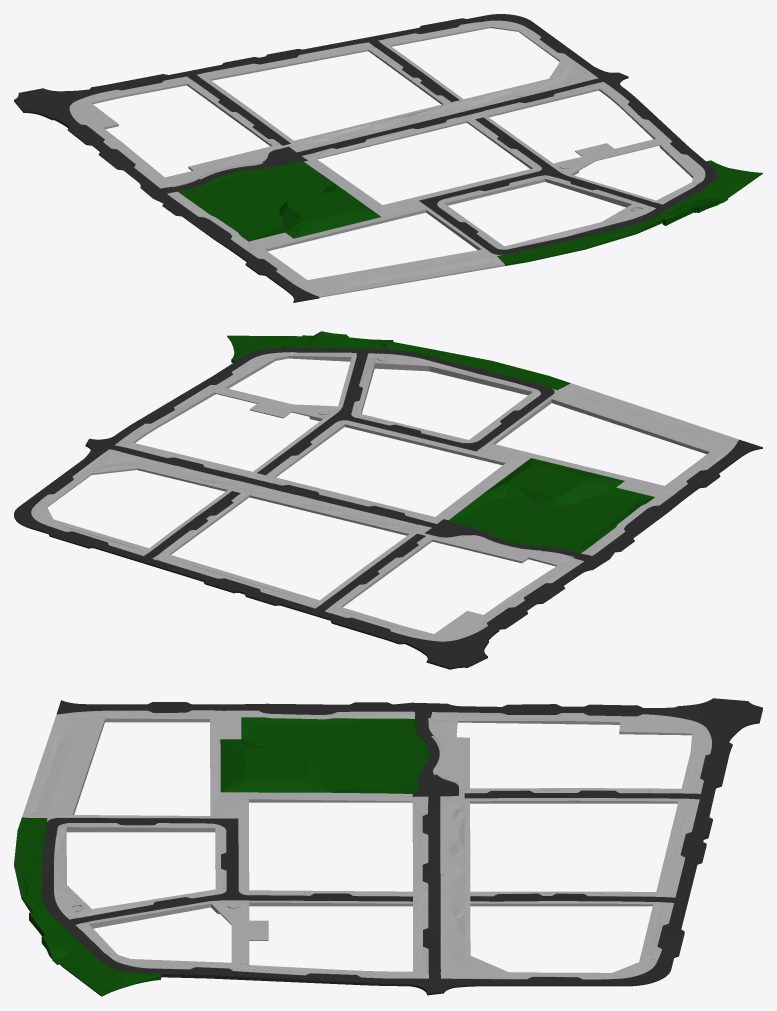
File: Landskap_klar.fbx
The picture shows the model from 3 angles, top to bottom: view 1: azimuth 30°, elevation 25°; view 2: azimuth 150°, elevation 25°; view 3: azimuth 270°, elevation 25°; orthographic projection. The views are drawn at different scales.
Parts seen in each view (by area): view 1: Pasrken, Kvarter 6, Kvarter 1, Kvarter 2, "Park vid kvarter 8", Kvarter 3, Väg.012, Kvarter 4, Kvarter 7, Väg.010, Kvarter 5, Väg.002 (+12 smaller); view 2: Pasrken, Kvarter 6, Kvarter 1, Kvarter 2, Väg.012, Kvarter 3, Kvarter 4, "Park vid kvarter 8", Kvarter 5, Kvarter 7, Väg.010, Väg.002 (+12 smaller); view 3: Pasrken, Kvarter 6, Kvarter 1, Kvarter 2, Kvarter 3, "Park vid kvarter 8", Väg.012, Kvarter 4, Kvarter 5, Väg.010, Kvarter 7, Väg.003 (+12 smaller).
Boxes of the visible parts, x1,y1,x2,y2 form: Pasrken: (178,161,380,241); Kvarter 6: (238,200,504,297); Kvarter 1: (69,76,288,188); Kvarter 2: (197,42,464,149); "Park vid kvarter 8": (497,160,762,265); Kvarter 3: (378,20,598,111); Väg.012: (14,71,190,192); Kvarter 4: (287,114,541,211); Kvarter 7: (437,175,655,249); Väg.010: (419,167,669,254); Kvarter 5: (471,82,671,171); Väg.002: (186,36,459,101); Pasrken: (449,458,654,553); Kvarter 6: (476,383,738,499); Kvarter 1: (325,533,583,641); Kvarter 2: (152,484,418,608); Väg.012: (314,561,599,669); Kvarter 3: (31,449,251,555); Kvarter 4: (257,420,523,534); "Park vid kvarter 8": (227,331,570,390); Kvarter 5: (115,385,336,479); Kvarter 7: (351,353,540,443); Väg.010: (331,349,554,451); Väg.002: (137,491,319,615); Pasrken: (220,717,428,793); Kvarter 6: (22,710,241,821); Kvarter 1: (428,712,711,795); Kvarter 2: (440,798,699,898); Kvarter 3: (440,897,673,979); "Park vid kvarter 8": (14,817,161,996); Väg.012: (432,698,762,797); Kvarter 4: (238,792,464,897); Kvarter 5: (222,732,692,978); Väg.010: (42,818,240,927); Kvarter 7: (54,823,226,919); Väg.003: (440,903,687,993).
Size of the model in its own units: 31793 by 455 by 33902.
